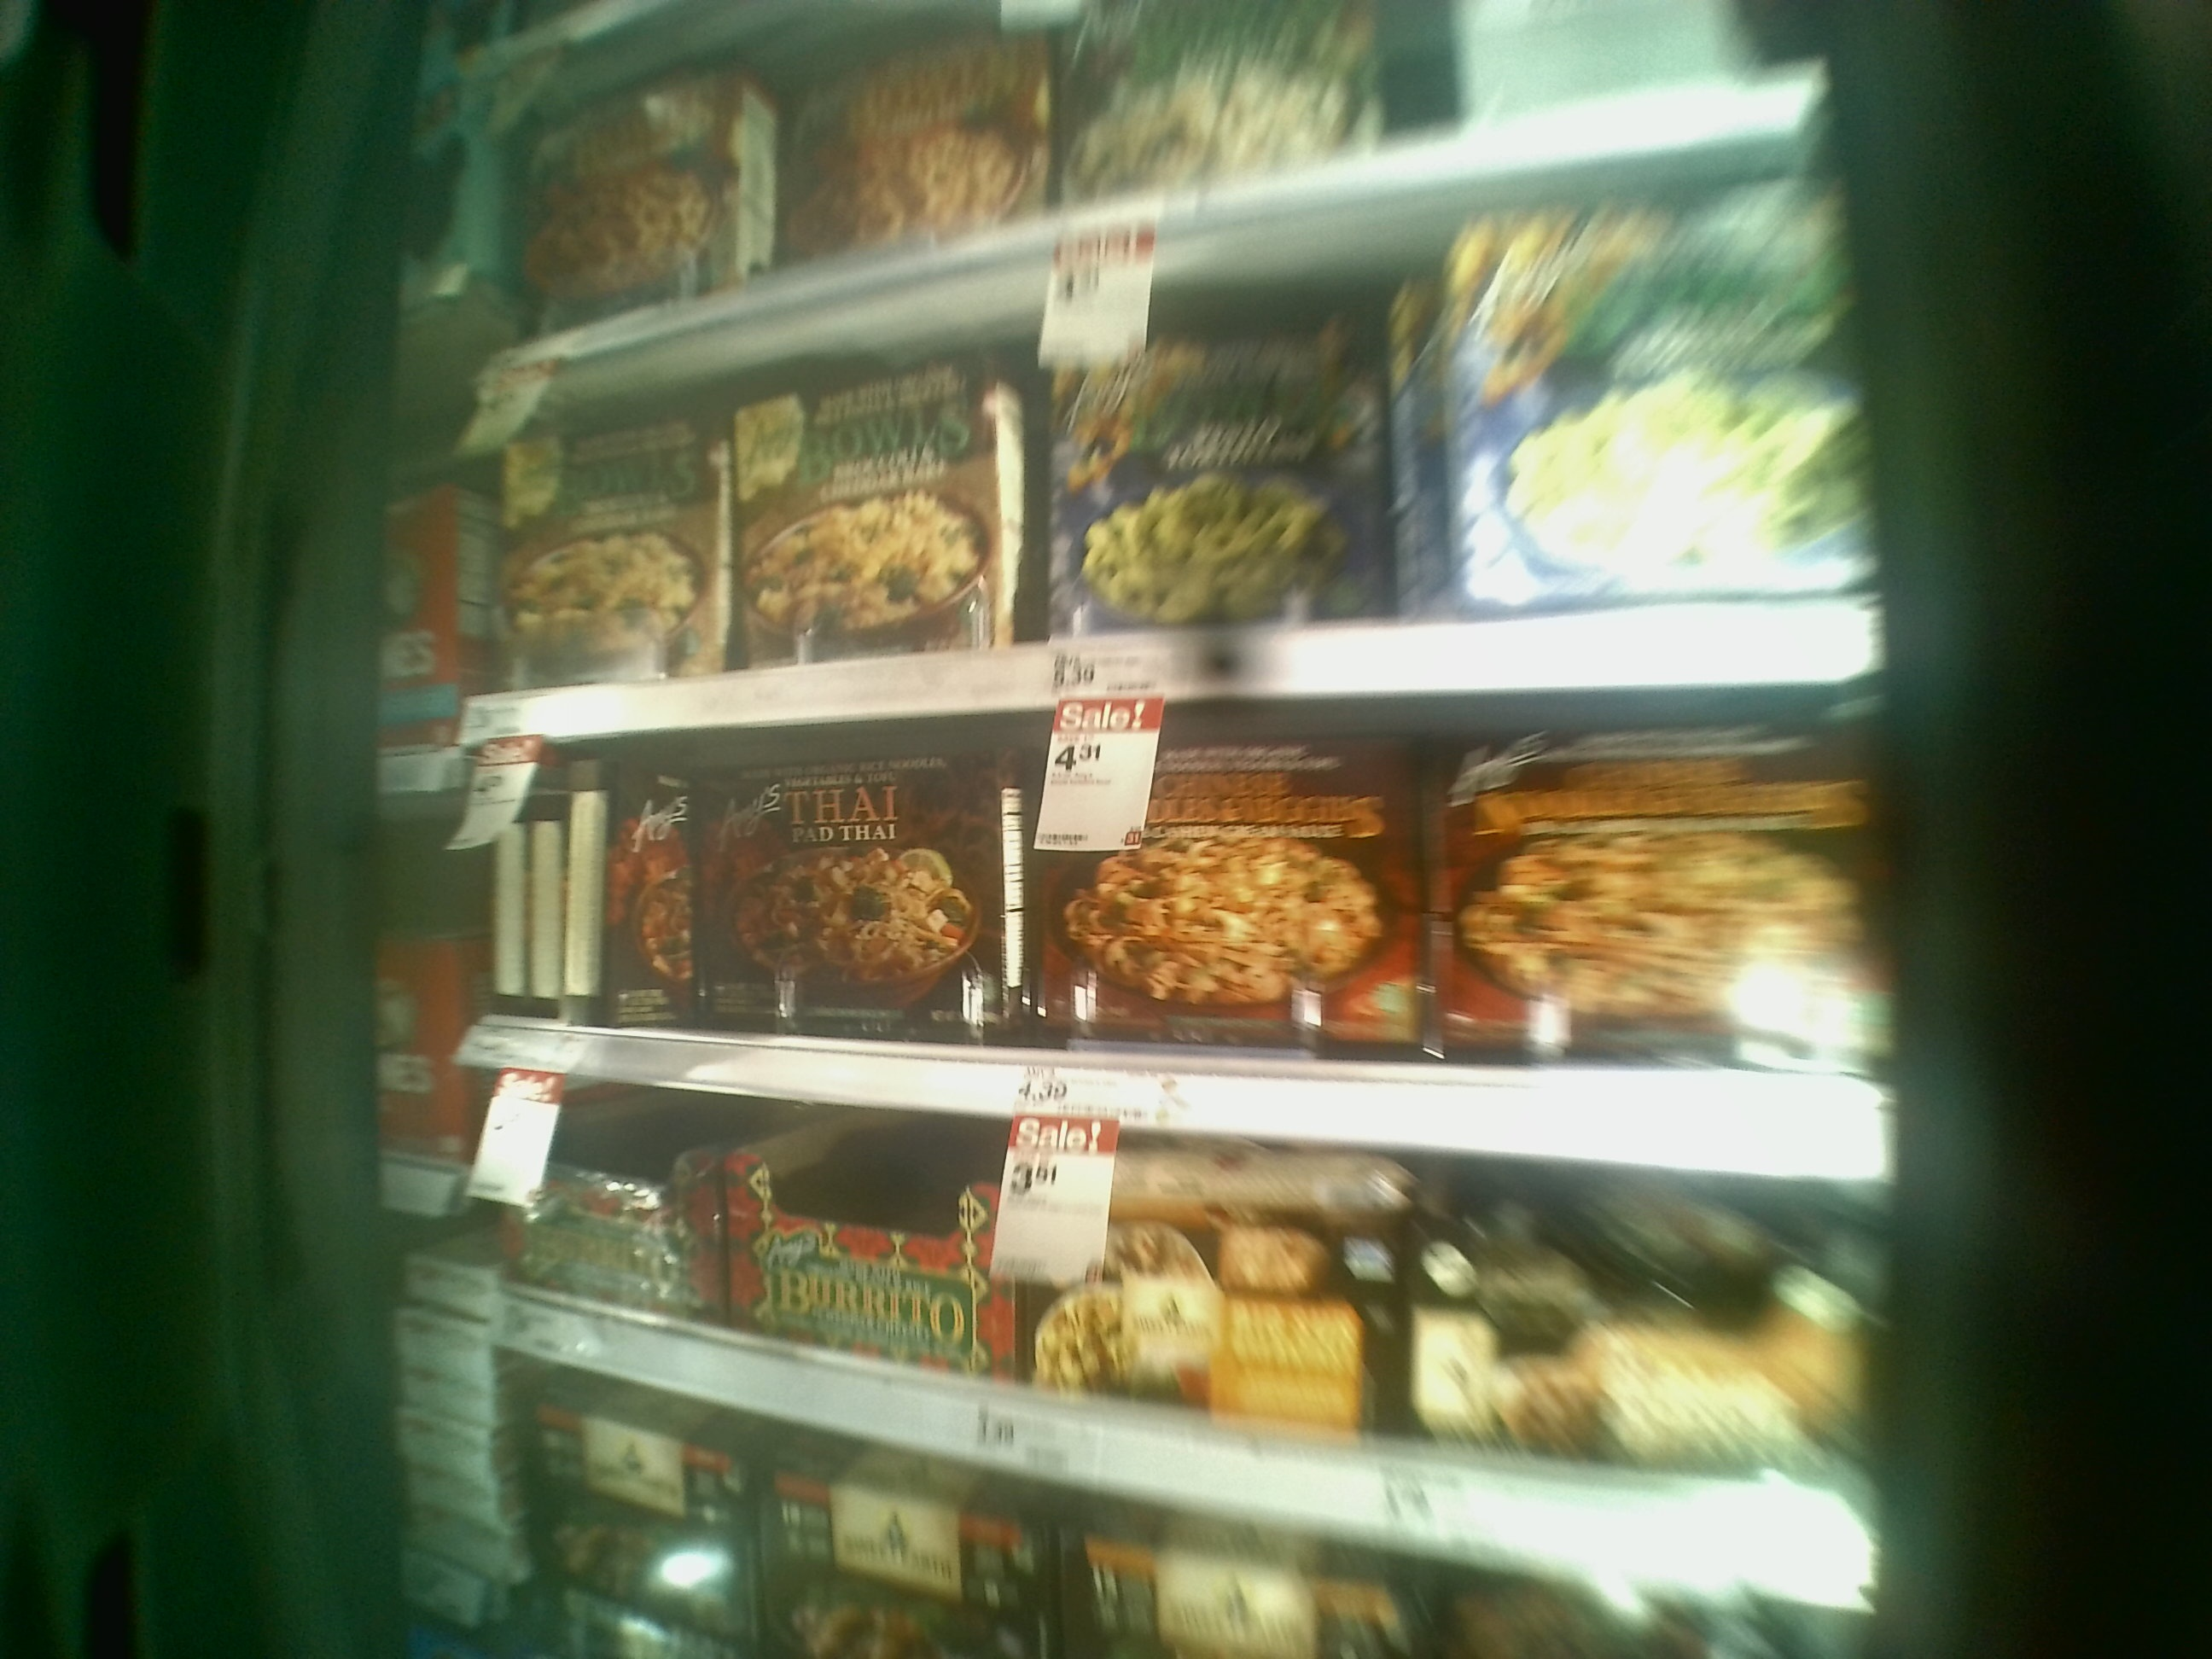shelf: (460, 678, 1895, 1185)
